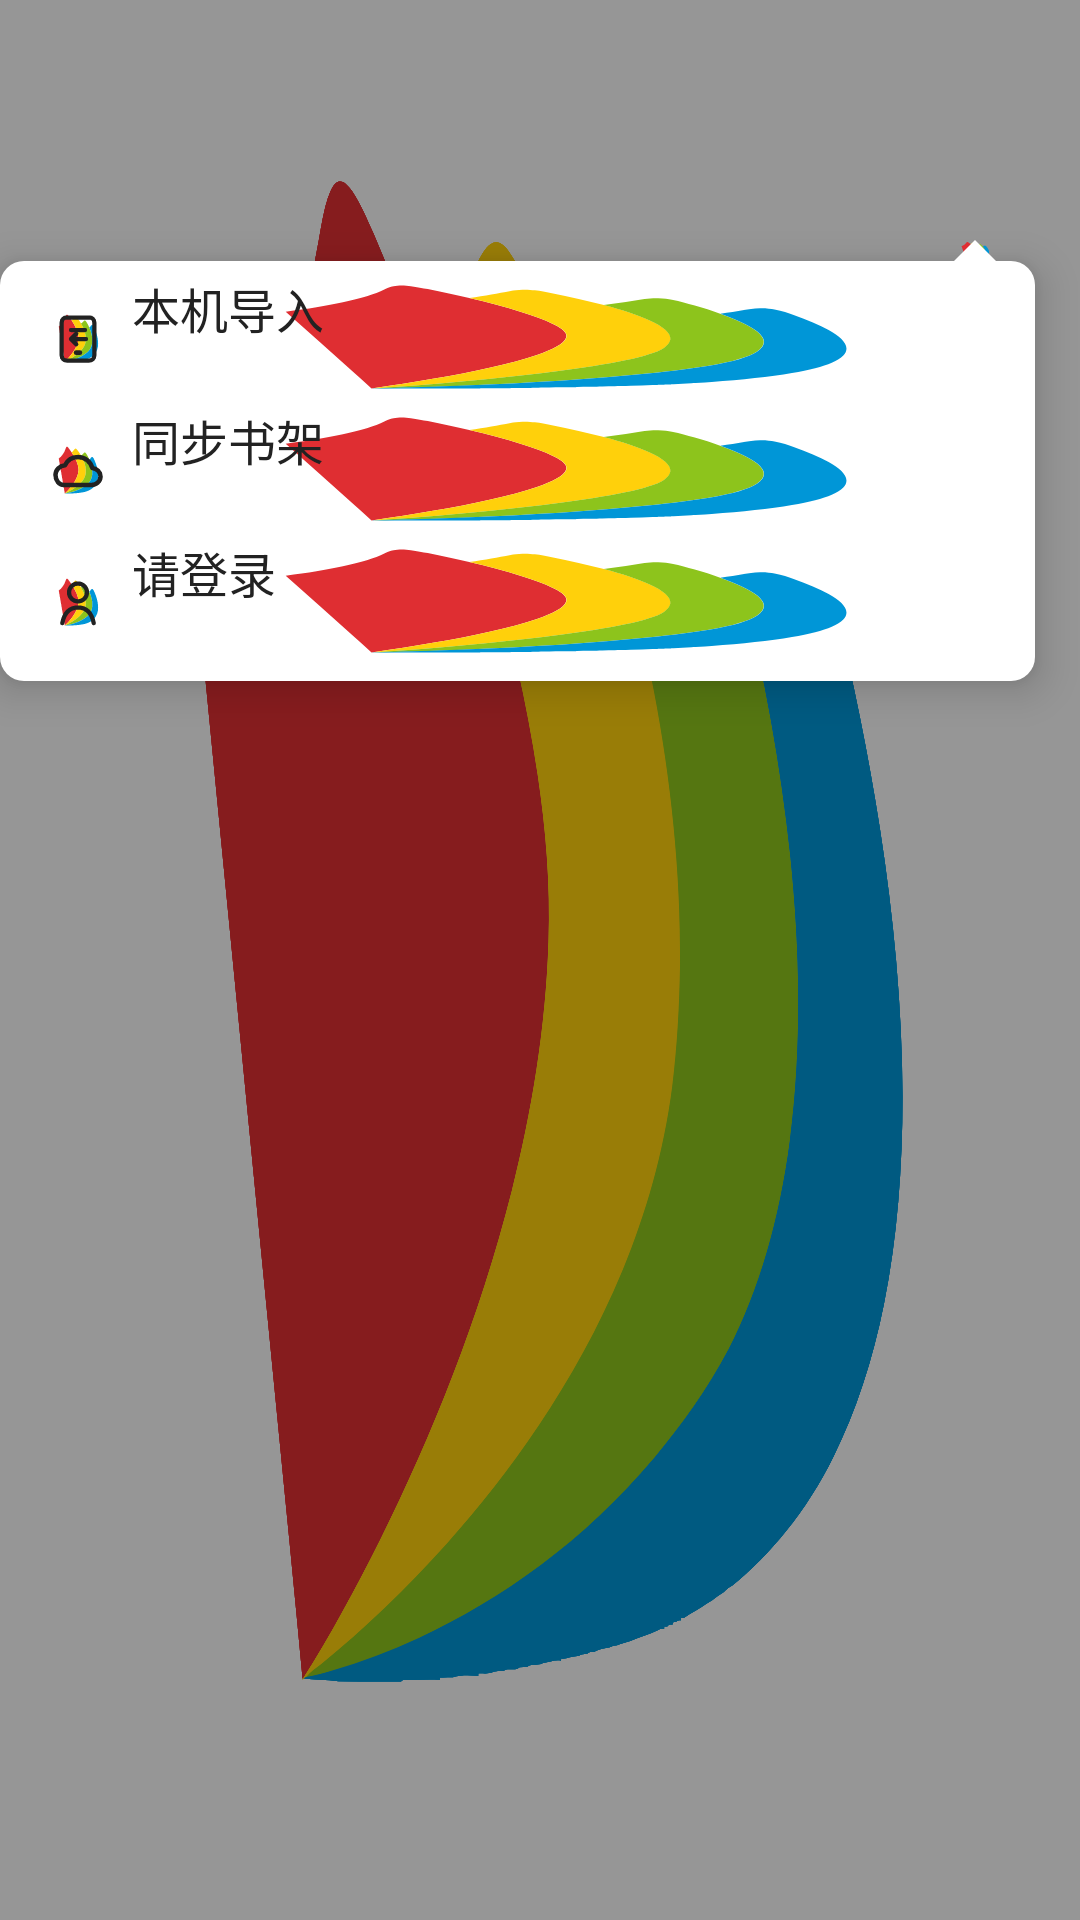

Where icons sit on this 1080x1920 app screen, as box(x1, y1, x2, y2):
home menu account: box(58, 578, 98, 626)
home menu import: box(58, 314, 98, 363)
home menu sync: box(53, 446, 103, 494)
